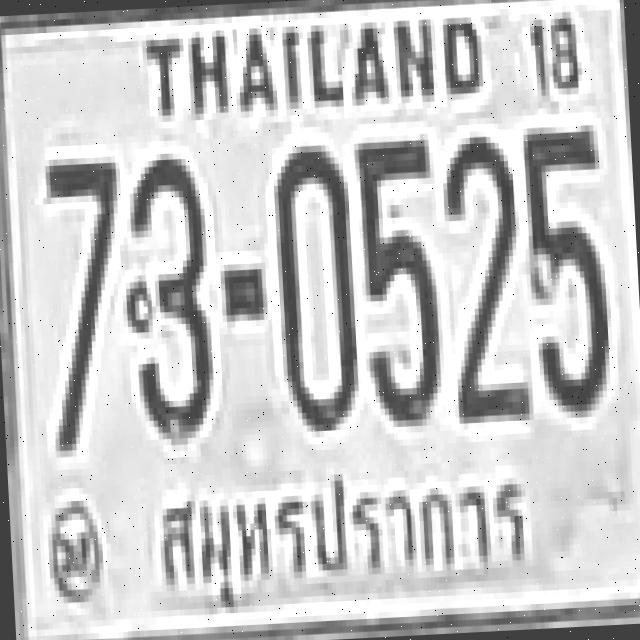0: (270, 138, 358, 427)
2: (442, 130, 528, 418)
3: (115, 148, 212, 438)
5: (518, 122, 608, 410), (354, 134, 439, 422)
7: (38, 154, 128, 448)
SamutPrakan: (150, 441, 539, 618)
